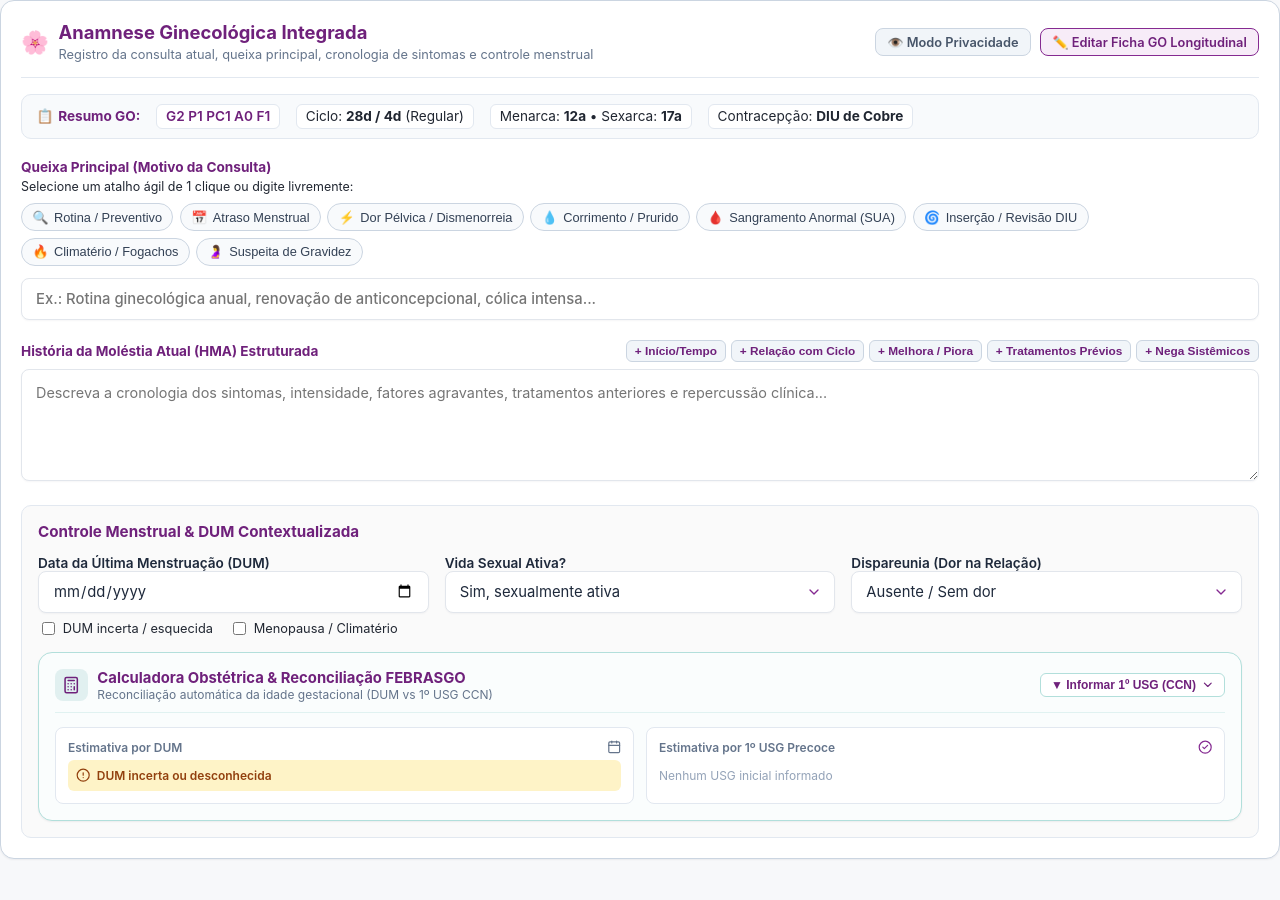
Test: GynecologicalAnamnesisSection › permite alternar o modo privacidade
Click the button "👁️ Modo Privacidade": (953, 42) [875,28,1031,56]
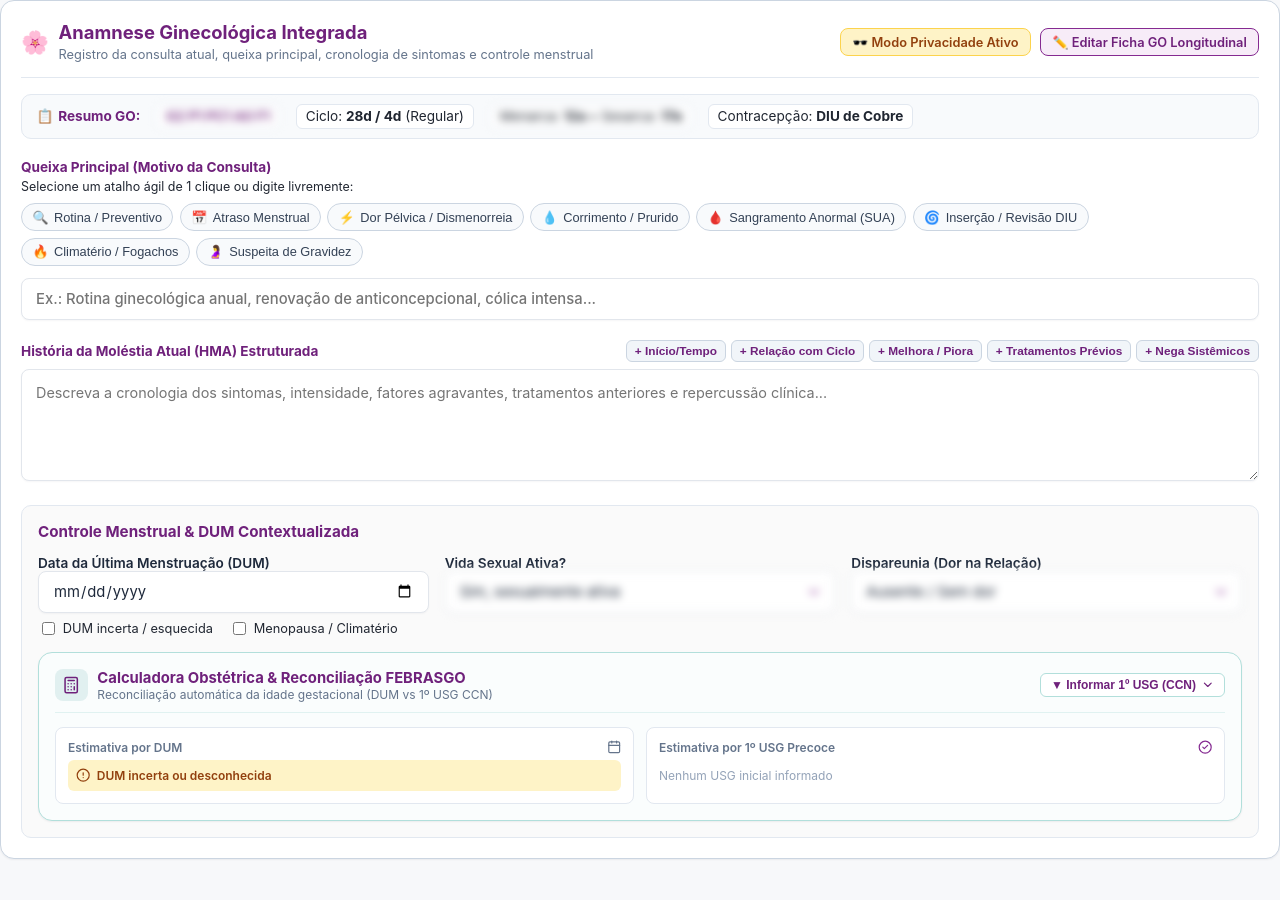
expect the text "🕶️ Modo Privacidade Ativo" is shown: met, box [852,34,1019,50]
